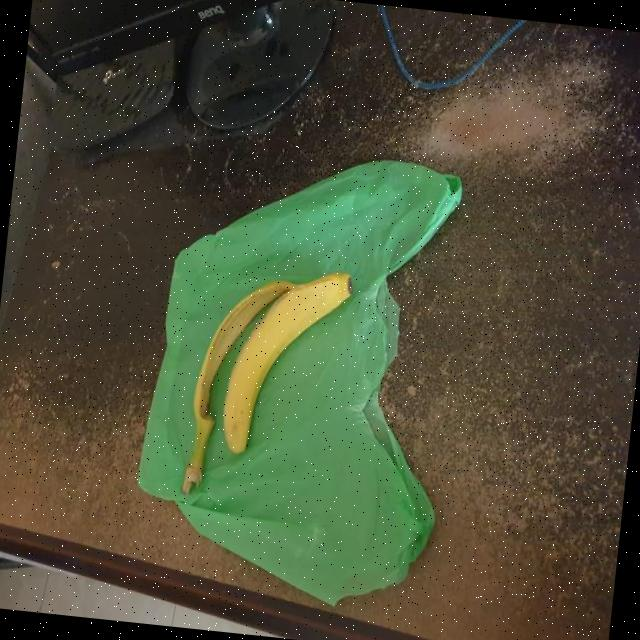banana-peel: (177, 255, 354, 509)
